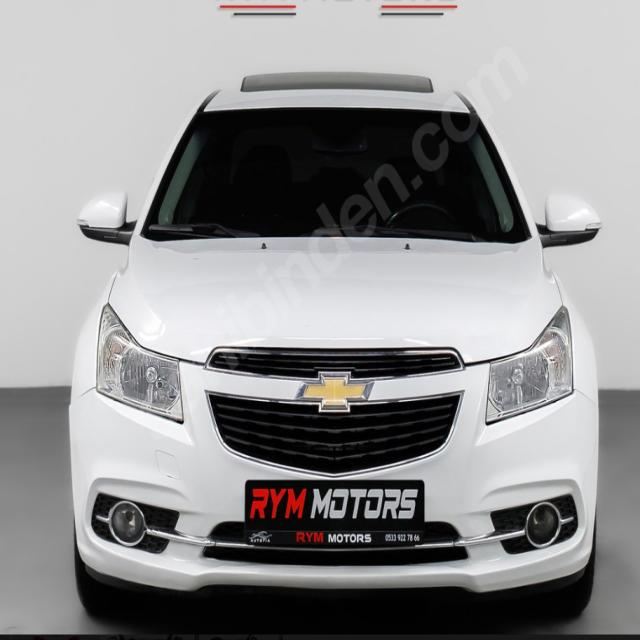chevrolet: (295, 366, 377, 414)
